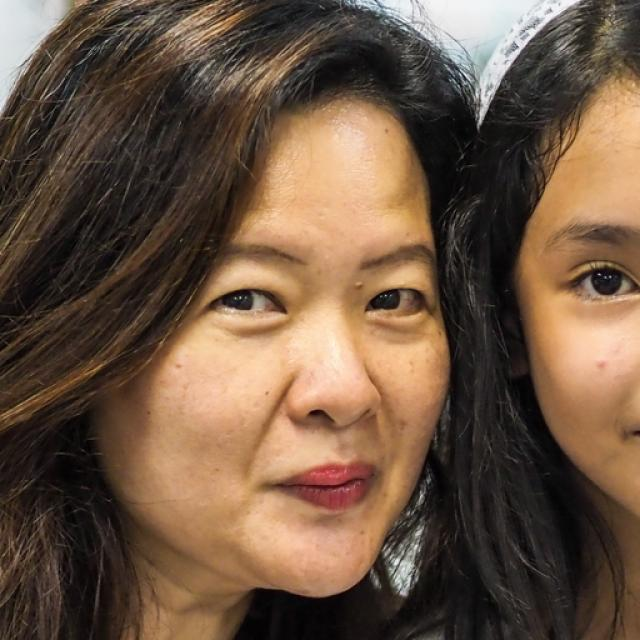Acne: (342, 266, 370, 306)
